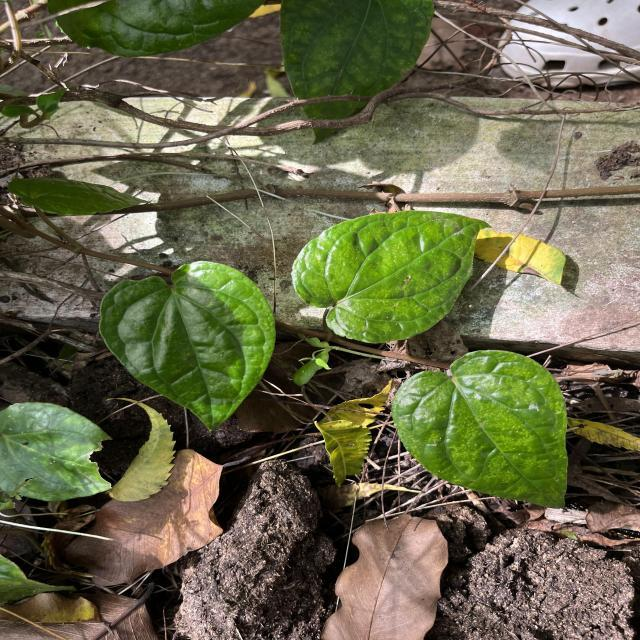Piper betle: (94, 258, 278, 434), (389, 347, 571, 511), (289, 208, 494, 346)
